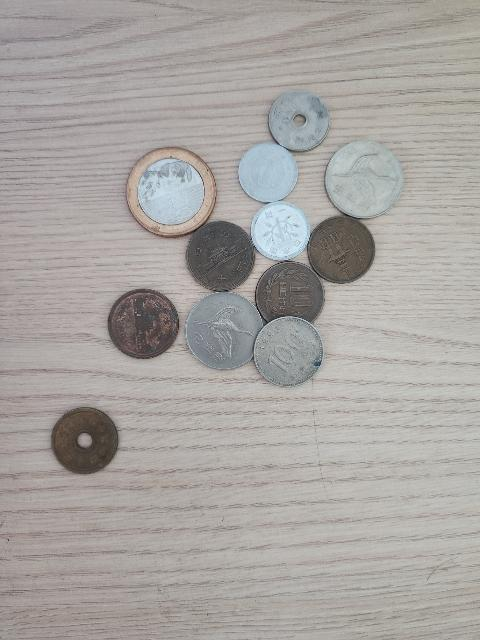coin: (127, 144, 215, 236), (183, 287, 266, 371), (325, 136, 401, 222), (186, 220, 256, 290), (111, 286, 177, 360), (253, 316, 321, 386), (308, 215, 374, 285), (52, 406, 118, 474), (256, 262, 324, 326), (271, 86, 329, 156), (238, 140, 294, 203), (256, 198, 308, 262)
